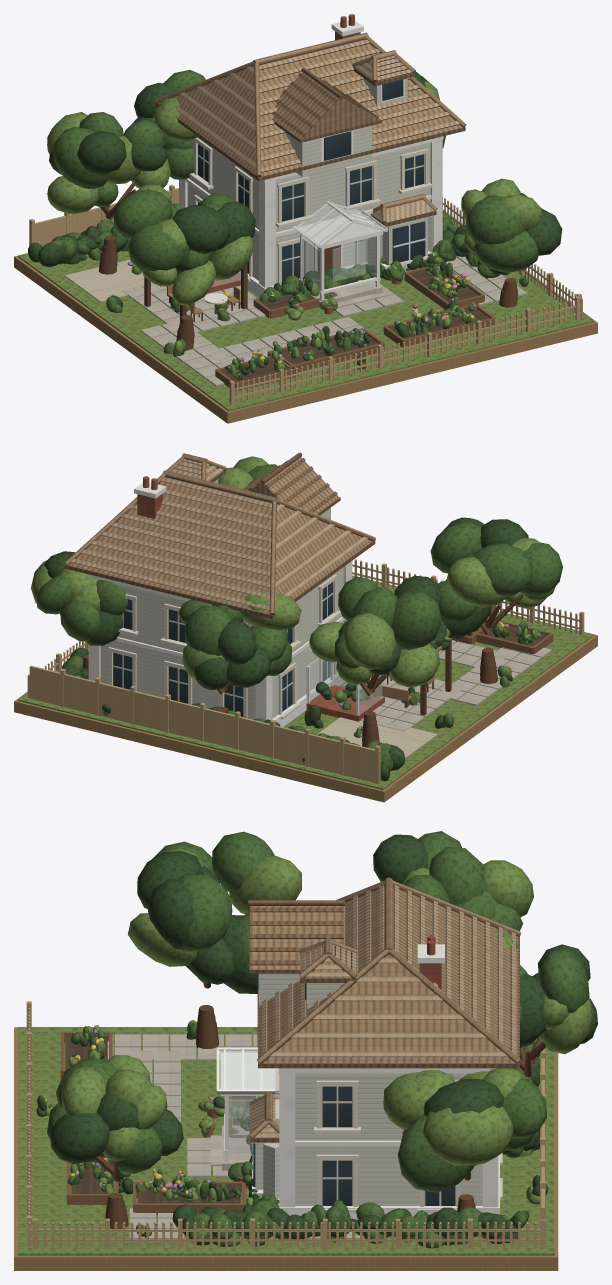
The model's file is colonialhome.glb.
The picture shows the model from 3 angles, top to bottom: view 1: azimuth 30°, elevation 25°; view 2: azimuth 150°, elevation 25°; view 3: azimuth 270°, elevation 25°; orthographic projection. The views are drawn at different scales.
Visible parts, largest first — view 1: tree_canopy (×23), lawn, main_roof_tiles, base_board, cottage_walls, front_gable_roof_field, cottage_quoin (×2), porch_glass (×3), main_roof_tile_course (×4), window_glass (×3), gravel_court, gable_wall (+13 smaller); view 2: tree_canopy (×28), main_roof_tiles, back_fence, lawn, base_board, main_roof_tile_course (×10), cottage_walls, front_gable_roof_field, gravel_court, main_roof_hip_ridge (×3), window_glass (×3), main_roof_eave (+9 smaller); view 3: tree_canopy (×34), lawn, main_roof_tiles, base_board, cottage_walls, main_roof_hip_course (×4), front_gable_roof_field, main_roof_tile_course (×5), cottage_quoin (×2), main_roof_hip_ridge (×3), fence_rail (×2), window_glass (×2) (+14 smaller).
Part boxes in pixels (left/top/right/bottom): tree_canopy (×23): left=47, top=70, right=562, bottom=305; lawn: left=18, top=219, right=593, bottom=411; main_roof_tiles: left=159, top=39, right=462, bottom=177; base_board: left=14, top=209, right=597, bottom=423; cottage_walls: left=187, top=137, right=430, bottom=283; front_gable_roof_field: left=273, top=72, right=380, bottom=139; cottage_quoin (×2): left=259, top=139, right=442, bottom=287; porch_glass (×3): left=302, top=236, right=375, bottom=290; main_roof_tile_course (×4): left=259, top=40, right=459, bottom=172; window_glass (×3): left=282, top=166, right=371, bottom=281; gravel_court: left=65, top=259, right=151, bottom=302; gable_wall: left=285, top=125, right=372, bottom=176; tree_canopy (×28): left=36, top=467, right=562, bottom=689; main_roof_tiles: left=68, top=477, right=372, bottom=614; back_fence: left=29, top=665, right=380, bottom=783; lawn: left=18, top=575, right=593, bottom=789; base_board: left=14, top=634, right=597, bottom=802; main_roof_tile_course (×10): left=71, top=477, right=271, bottom=610; cottage_walls: left=100, top=567, right=343, bottom=719; front_gable_roof_field: left=247, top=457, right=338, bottom=513; gravel_court: left=317, top=717, right=437, bottom=758; main_roof_hip_ridge (×3): left=65, top=474, right=375, bottom=615; window_glass (×3): left=113, top=653, right=243, bottom=716; main_roof_eave: left=65, top=541, right=375, bottom=618; tree_canopy (×34): left=50, top=831, right=593, bottom=1192; lawn: left=17, top=1027, right=554, bottom=1255; main_roof_tiles: left=259, top=887, right=518, bottom=1063; base_board: left=14, top=1027, right=558, bottom=1270; cottage_walls: left=295, top=1073, right=482, bottom=1205; main_roof_hip_course (×4): left=269, top=995, right=507, bottom=1056; front_gable_roof_field: left=250, top=906, right=343, bottom=969; main_roof_tile_course (×5): left=458, top=911, right=515, bottom=1054; cottage_quoin (×2): left=279, top=1073, right=498, bottom=1207; main_roof_hip_ridge (×3): left=257, top=880, right=520, bottom=1064; fence_rail (×2): left=29, top=1229, right=540, bottom=1241; window_glass (×2): left=322, top=1086, right=352, bottom=1205.
Size of the model in its own units: 20.09 by 10.13 by 19.32.
Materials: 28 (26 with a texture image).
